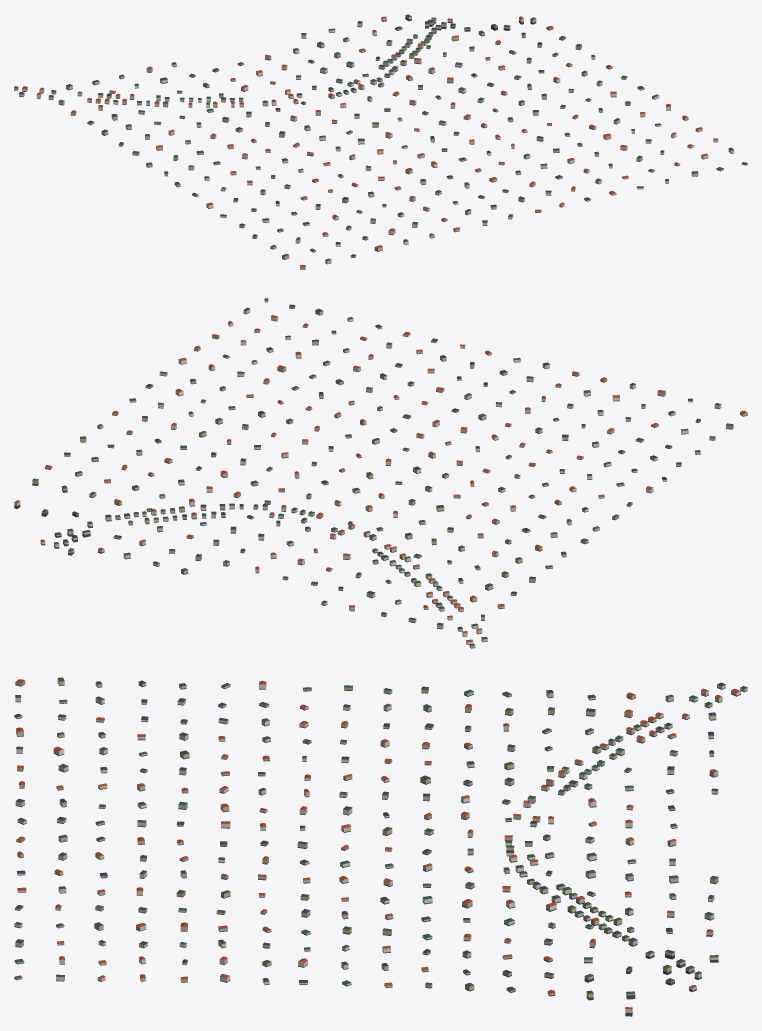
File: buildings_T_W01_S03.glb
3 renders of one model, top to bottom at view 1: azimuth 30°, elevation 25°; view 2: azimuth 150°, elevation 25°; view 3: azimuth 270°, elevation 25°, orthographic. The views are drawn at different scales.
Visible parts, largest first — view 1: T_W01_S03_slope_seating_foundations, T_W01_S03_roofs_roof_terracotta_gable, T_W01_S03_roofs_roof_pine_green_hip, T_W01_S03_roofs_roof_slate_French_villa_hip, T_W01_S03_walls_wall_french_ochre_villa, T_W01_S03_walls_wall_dalat_cream_stucco, T_W01_S03_walls_wall_pastel_sand_gray, T_W01_S03_walls_wall_modern_warm_white; view 2: T_W01_S03_slope_seating_foundations, T_W01_S03_roofs_roof_terracotta_gable, T_W01_S03_roofs_roof_pine_green_hip, T_W01_S03_roofs_roof_slate_French_villa_hip, T_W01_S03_walls_wall_french_ochre_villa, T_W01_S03_walls_wall_dalat_cream_stucco, T_W01_S03_walls_wall_pastel_sand_gray, T_W01_S03_walls_wall_modern_warm_white; view 3: T_W01_S03_slope_seating_foundations, T_W01_S03_roofs_roof_terracotta_gable, T_W01_S03_roofs_roof_pine_green_hip, T_W01_S03_walls_wall_french_ochre_villa, T_W01_S03_roofs_roof_slate_French_villa_hip, T_W01_S03_walls_wall_dalat_cream_stucco, T_W01_S03_walls_wall_pastel_sand_gray, T_W01_S03_walls_wall_modern_warm_white.
Boxes of the visible parts, x1,y1,x2,y2 form: T_W01_S03_slope_seating_foundations: (14,17,747,269); T_W01_S03_roofs_roof_terracotta_gable: (22,16,718,267); T_W01_S03_roofs_roof_pine_green_hip: (14,14,747,260); T_W01_S03_roofs_roof_slate_French_villa_hip: (19,19,733,256); T_W01_S03_walls_wall_french_ochre_villa: (51,19,747,268); T_W01_S03_walls_wall_dalat_cream_stucco: (36,15,734,263); T_W01_S03_walls_wall_pastel_sand_gray: (14,22,723,251); T_W01_S03_walls_wall_modern_warm_white: (19,30,718,246); T_W01_S03_slope_seating_foundations: (14,302,747,648); T_W01_S03_roofs_roof_terracotta_gable: (14,315,747,642); T_W01_S03_roofs_roof_pine_green_hip: (32,298,733,645); T_W01_S03_roofs_roof_slate_French_villa_hip: (55,307,700,639); T_W01_S03_walls_wall_french_ochre_villa: (32,301,747,631); T_W01_S03_walls_wall_dalat_cream_stucco: (14,309,721,636); T_W01_S03_walls_wall_pastel_sand_gray: (41,306,715,647); T_W01_S03_walls_wall_modern_warm_white: (129,318,688,644); T_W01_S03_slope_seating_foundations: (14,682,747,1016); T_W01_S03_roofs_roof_terracotta_gable: (16,679,740,1009); T_W01_S03_roofs_roof_pine_green_hip: (14,677,747,994); T_W01_S03_walls_wall_french_ochre_villa: (14,679,718,997); T_W01_S03_roofs_roof_slate_French_villa_hip: (14,680,725,990); T_W01_S03_walls_wall_dalat_cream_stucco: (14,690,722,1012); T_W01_S03_walls_wall_pastel_sand_gray: (14,682,747,995); T_W01_S03_walls_wall_modern_warm_white: (14,684,740,985).
Bounding box in the file's own units: 1730 × 131 × 1731.
